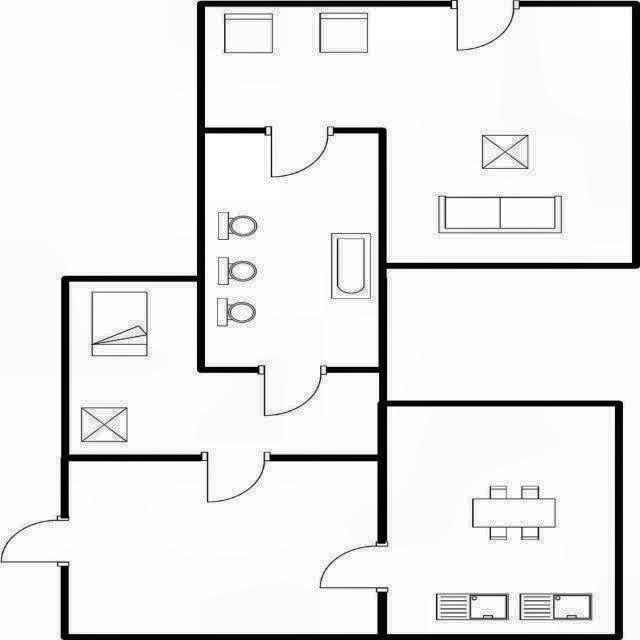room: (205, 6, 632, 263), (68, 461, 378, 634), (70, 282, 379, 454), (387, 406, 615, 634), (205, 133, 379, 367)
